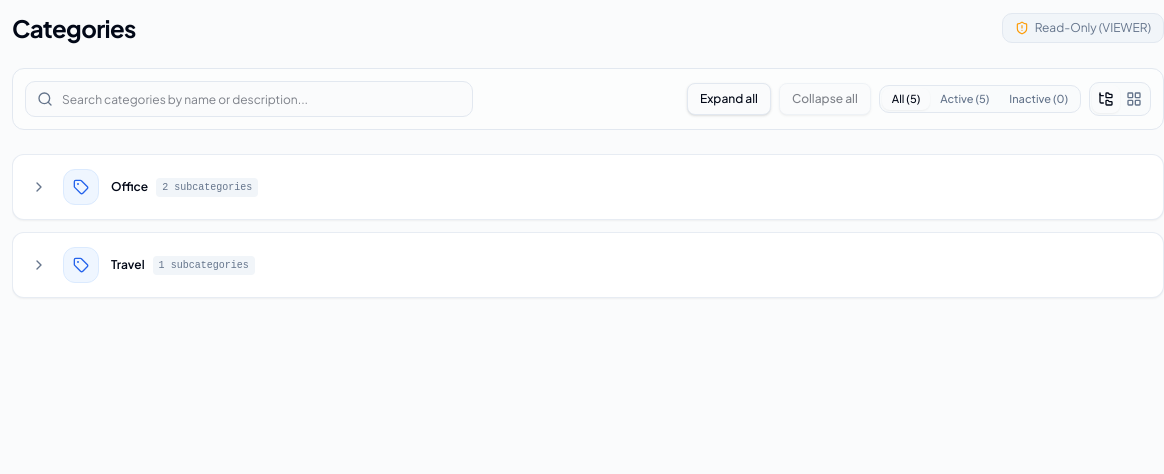
Test: category ordering › starts collapsed and supports individual and bulk expansion for read-only members
Expected: the text "Rent" is not shown
Expected: the text "Flights" is not shown
Step 1. Click the button named "Expand Office subcategories" → (39, 187), box [27,175,51,199]
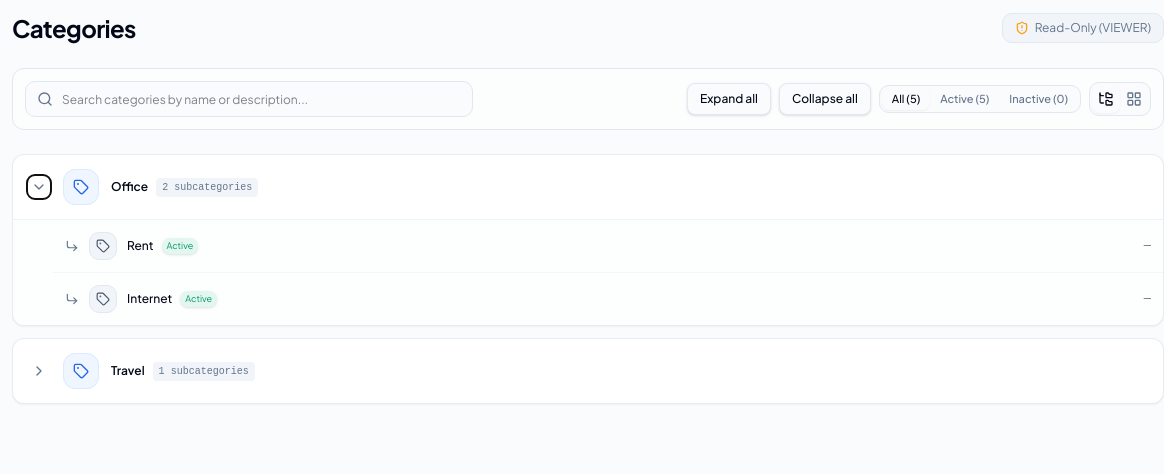
Expected: the text "Flights" is not shown
Expected: the text "Rent" is shown, [127,238,154,254]
Step 2. Click the button named "Collapse Office subcategories" → (39, 187), box [27,175,51,199]
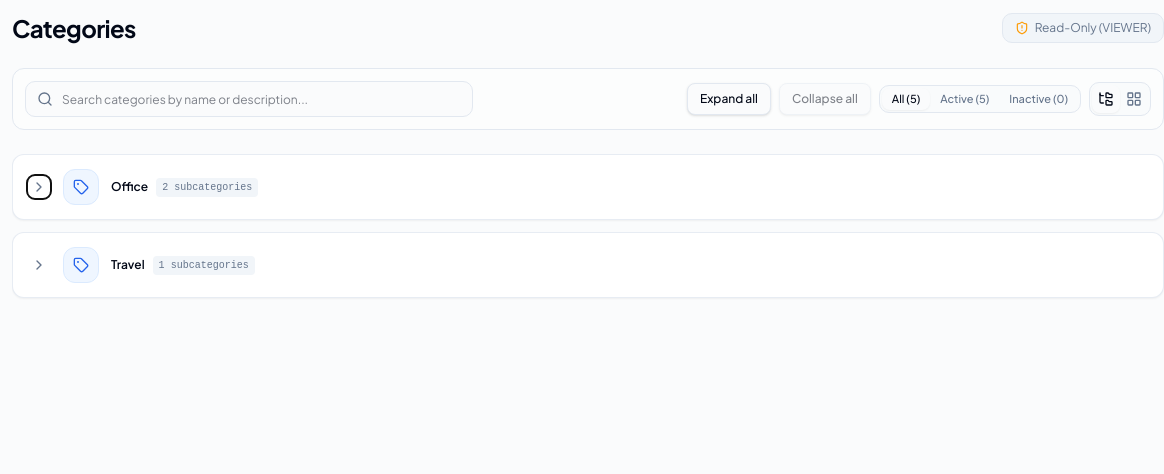
Expected: the text "Rent" is gone
Step 3. Click the button "Expand all" → (729, 99), box [687,83,771,115]
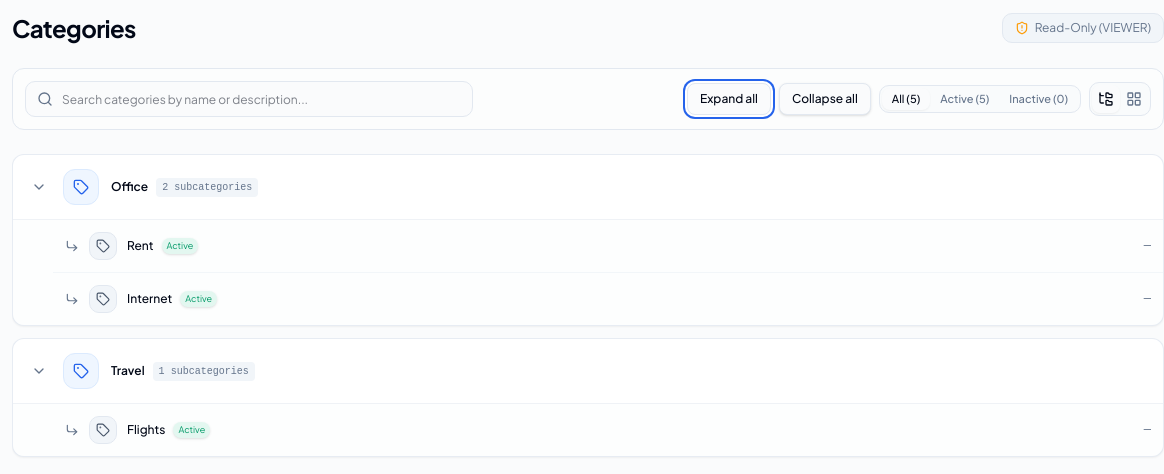
Expected: the text "Rent" is shown, [127,238,154,254]
Expected: the text "Internet" is shown, [127,291,172,307]
Expected: the text "Flights" is shown, [127,422,165,438]
Step 4. Click the button "Collapse all" → (825, 99), box [779,83,871,115]
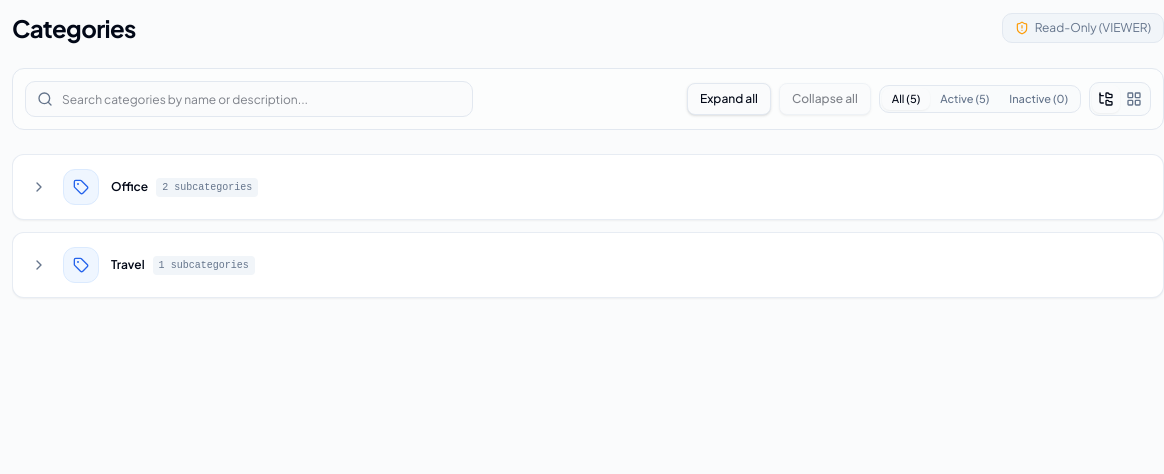
Expected: the text "Rent" is gone
Expected: the text "Flights" is gone
Step 5. Click the button titled "Card Grid View" → (1134, 99), box [1120,85,1148,113]
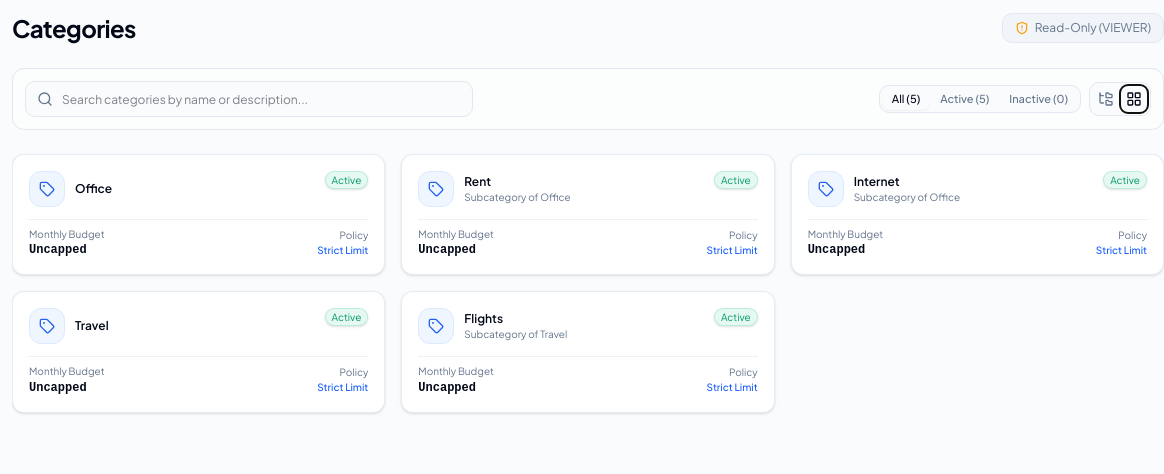
Expected: the button "Expand all" is gone
Expected: the heading "Rent" is shown, [464,174,491,188]
Step 6. Click the button titled "Hierarchical Tree View" → (1106, 99), box [1092,85,1120,113]
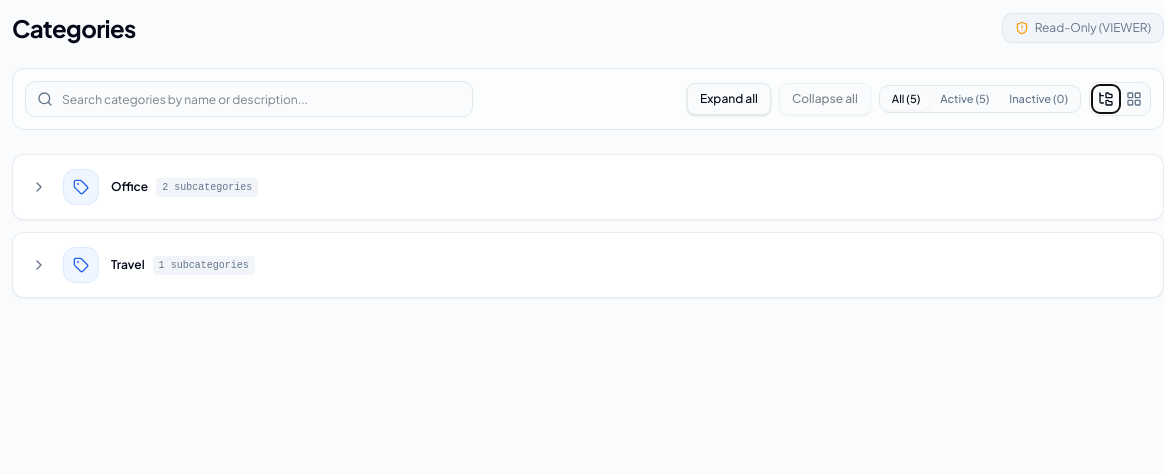
Expected: the heading "Rent" is gone
